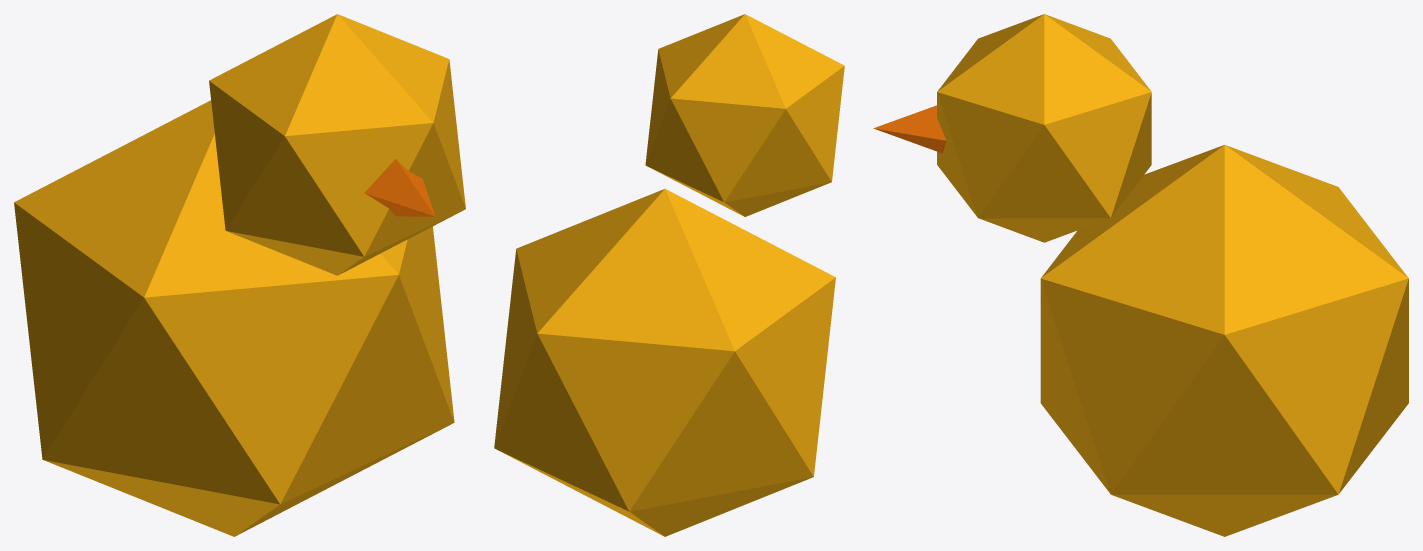
File: chick.obj
3 views of the same model, side by side, from view 1: azimuth 30°, elevation 25°; view 2: azimuth 150°, elevation 25°; view 3: azimuth 270°, elevation 25° (orthographic). The views are drawn at different scales.
Visible parts, largest first — view 1: chick; view 2: chick; view 3: chick.
Boxes of the visible parts, left/top/right/bottom form: chick: left=14, top=14, right=465, bottom=536; chick: left=494, top=14, right=844, bottom=536; chick: left=873, top=14, right=1408, bottom=536.
Size of the model in its own units: 0.2147 by 0.32 by 0.2971.
